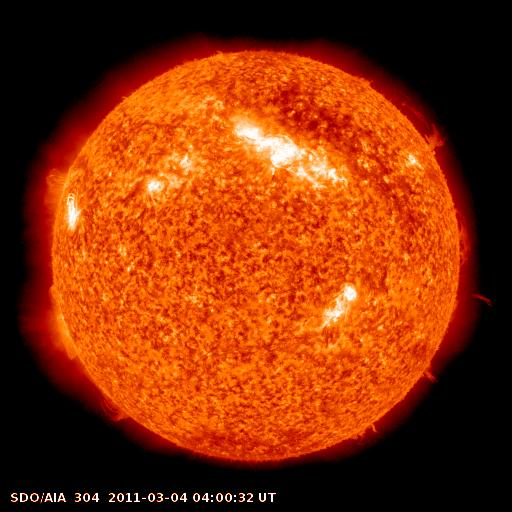prominence: (357, 70, 454, 155), (443, 196, 482, 269), (87, 383, 139, 430), (446, 281, 501, 319), (342, 409, 389, 450), (415, 351, 444, 396)
